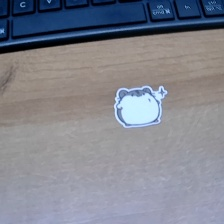mouse: (111, 84, 169, 130)
